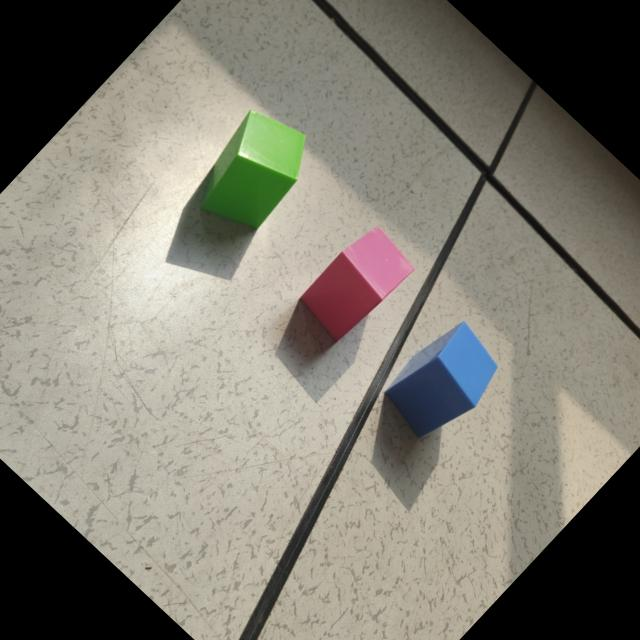blue: (383, 324, 497, 438)
green: (192, 112, 305, 236)
pink: (297, 229, 411, 343)
